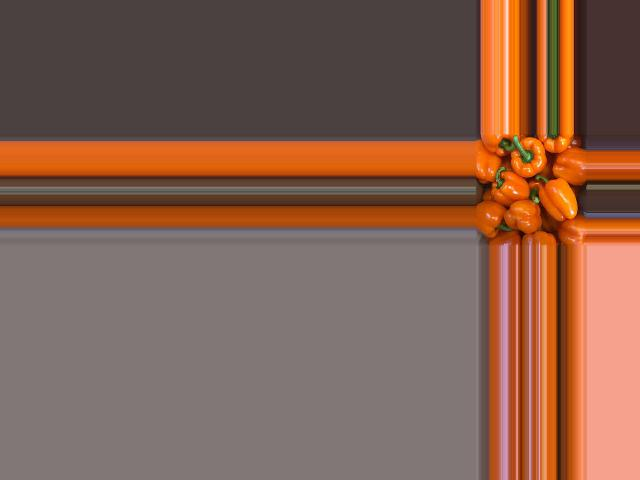bell_pepper: (486, 222, 528, 246)
